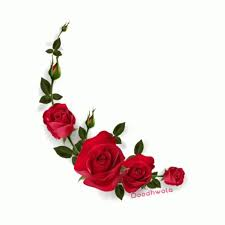lale: (71, 126, 124, 195), (119, 143, 155, 198), (42, 94, 80, 146), (159, 165, 186, 192)
